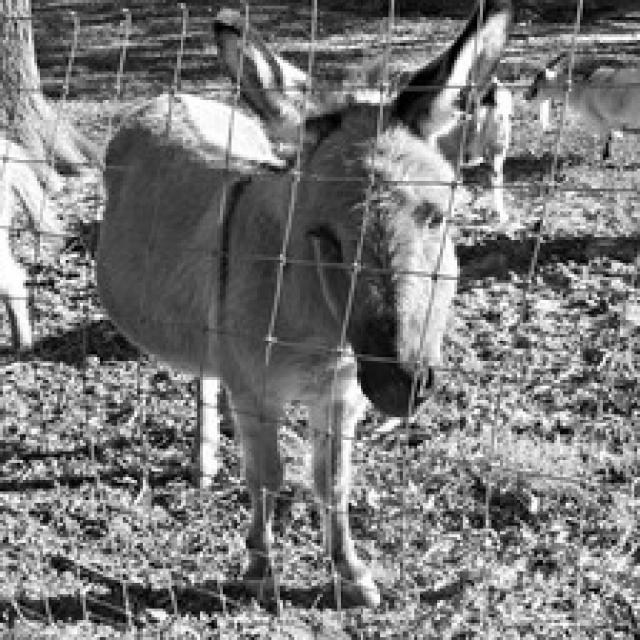Donkey: (91, 0, 517, 611), (0, 120, 69, 354), (523, 48, 637, 163), (460, 77, 511, 223)
